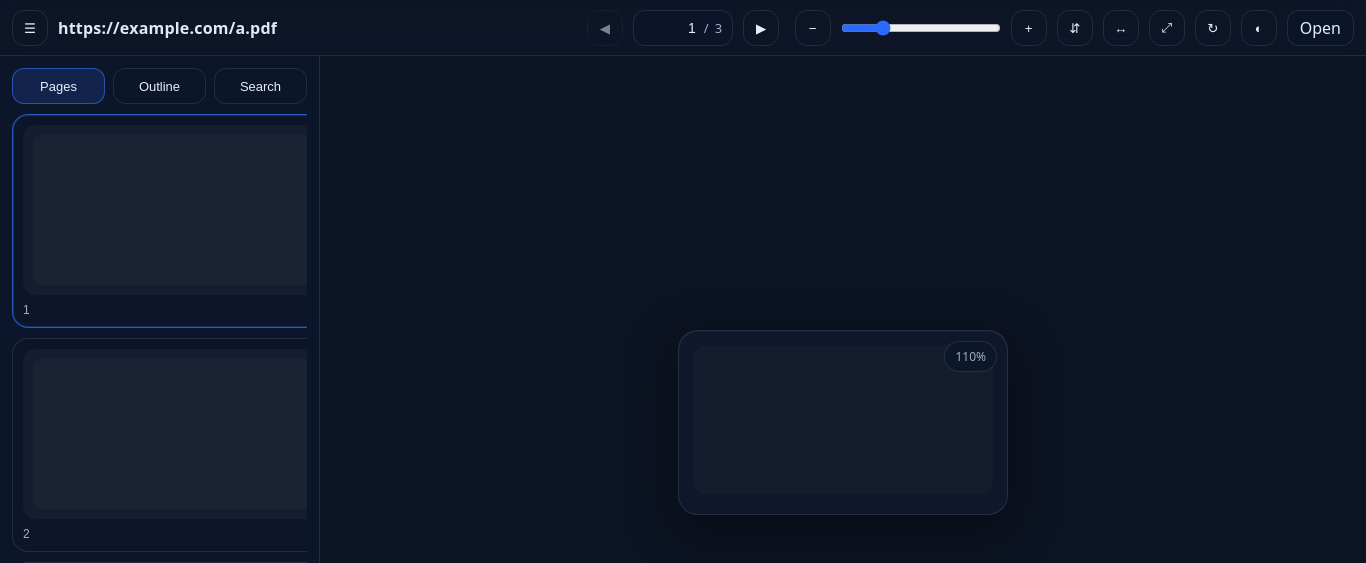
Test: ViewerShell › navigates pages with next/prev buttons
Expected: the field named "Page number" holds "1", left=644, top=19, right=698, bottom=37
Click the button named "Next page": (761, 28) left=743, top=10, right=779, bottom=46
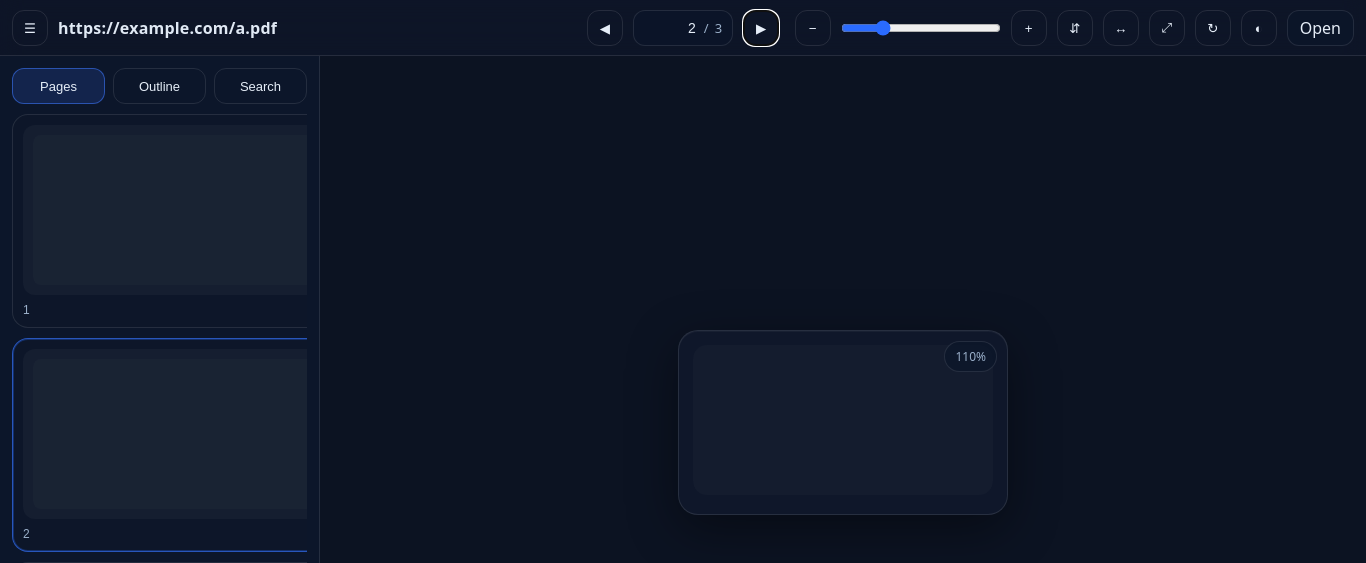
Expected: the field named "Page number" holds "2", left=644, top=19, right=698, bottom=37
Click the button named "Previous page": (605, 28) left=587, top=10, right=623, bottom=46
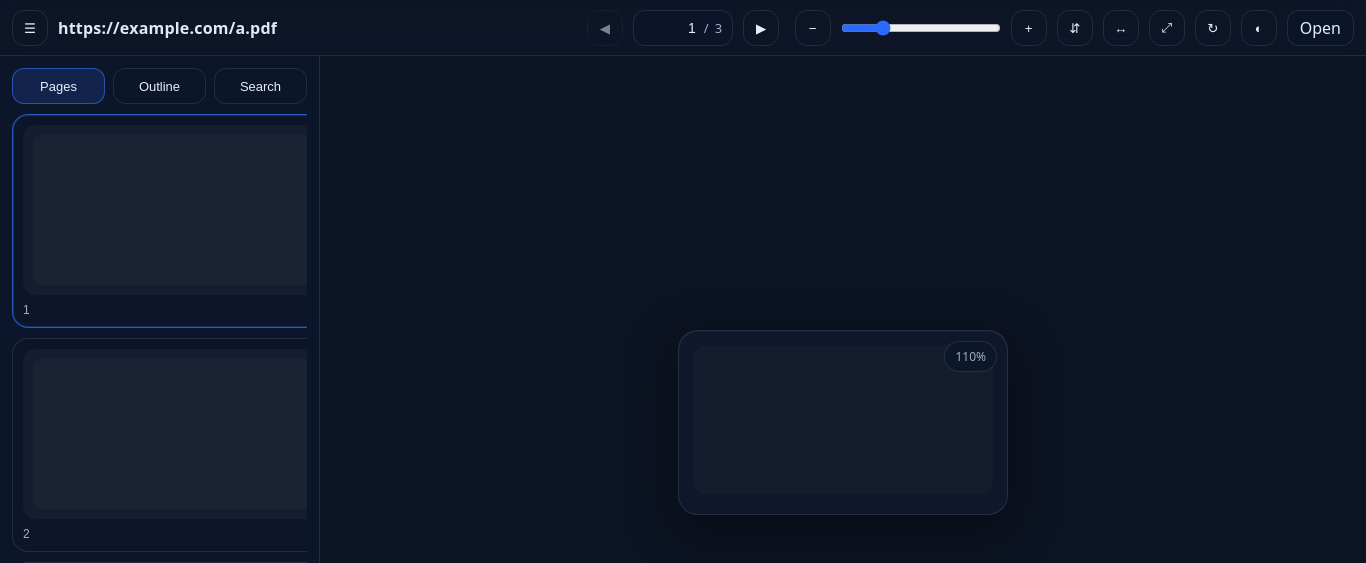
Expected: the field named "Page number" holds "1", left=644, top=19, right=698, bottom=37
